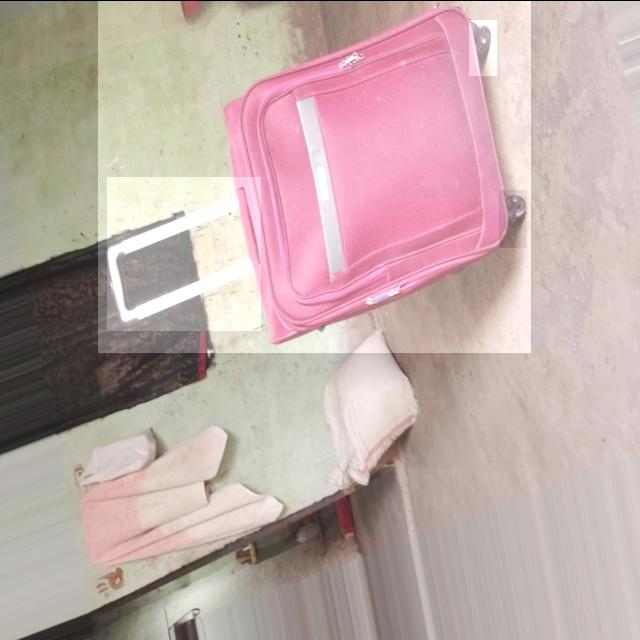Bag: (97, 1, 540, 348)
Handle: (103, 177, 270, 331)
